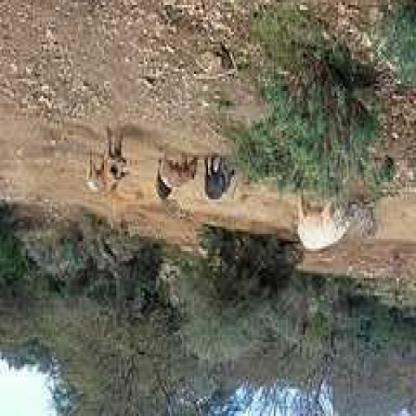boar: (291, 180, 355, 268), (158, 140, 215, 191), (101, 133, 129, 197), (199, 159, 226, 211), (157, 185, 166, 208)
